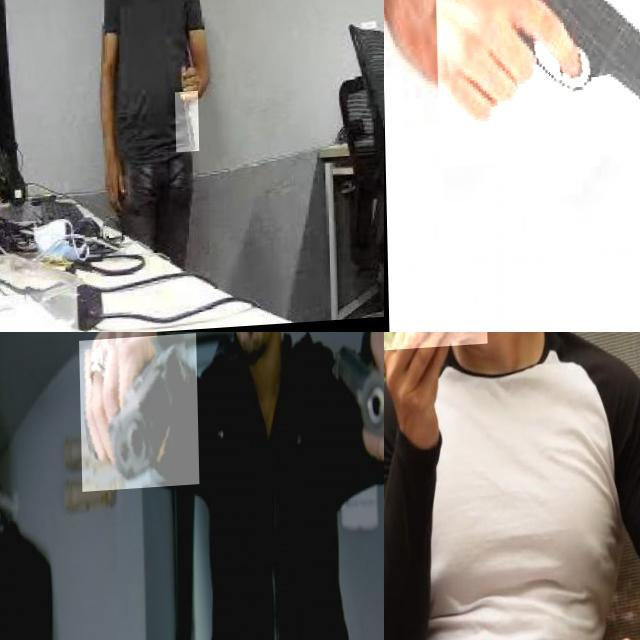-: (384, 332, 486, 378), (173, 95, 197, 156)
gun-knife-thesis - v11 Yolov5 augmented: (433, 0, 640, 167), (78, 338, 198, 494), (329, 332, 384, 478)
